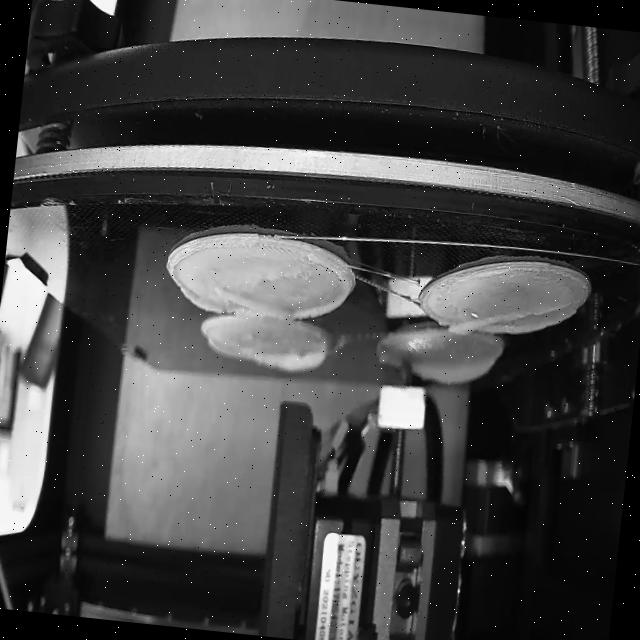over_extrusion: (448, 288, 568, 346), (177, 280, 290, 322), (291, 250, 354, 324), (252, 334, 331, 374), (413, 350, 494, 386), (203, 332, 247, 362)
